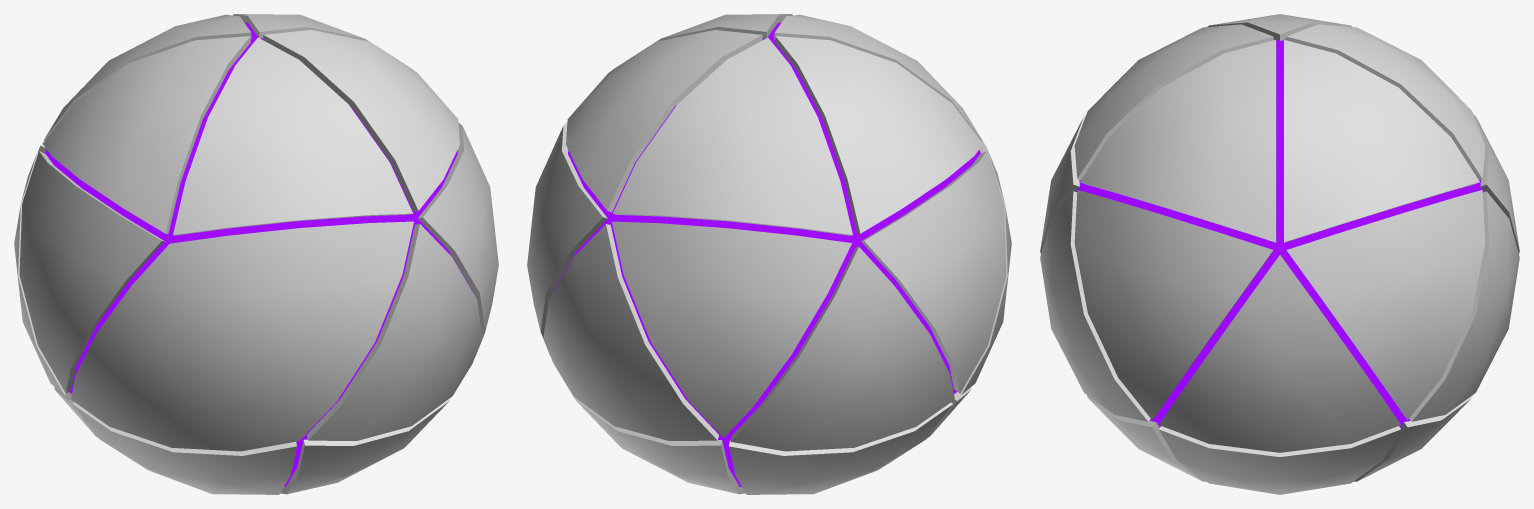
File: Suicide Ball.glb
The picture shows the model from 3 angles, left to right: view 1: azimuth 30°, elevation 25°; view 2: azimuth 150°, elevation 25°; view 3: azimuth 270°, elevation 25°; orthographic projection.
Visible parts, largest first — view 1: Icosphere; view 2: Icosphere; view 3: Icosphere.
Boxes of the visible parts, x1,y1,x2,y2 form: Icosphere: (14, 14, 498, 494); Icosphere: (527, 14, 1011, 494); Icosphere: (1040, 14, 1519, 494).
Bounding box in the file's own units: 2 × 1.99 × 1.99.
